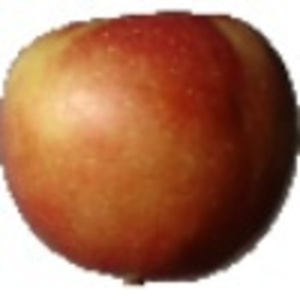maçã braeburn: (1, 8, 300, 284)
